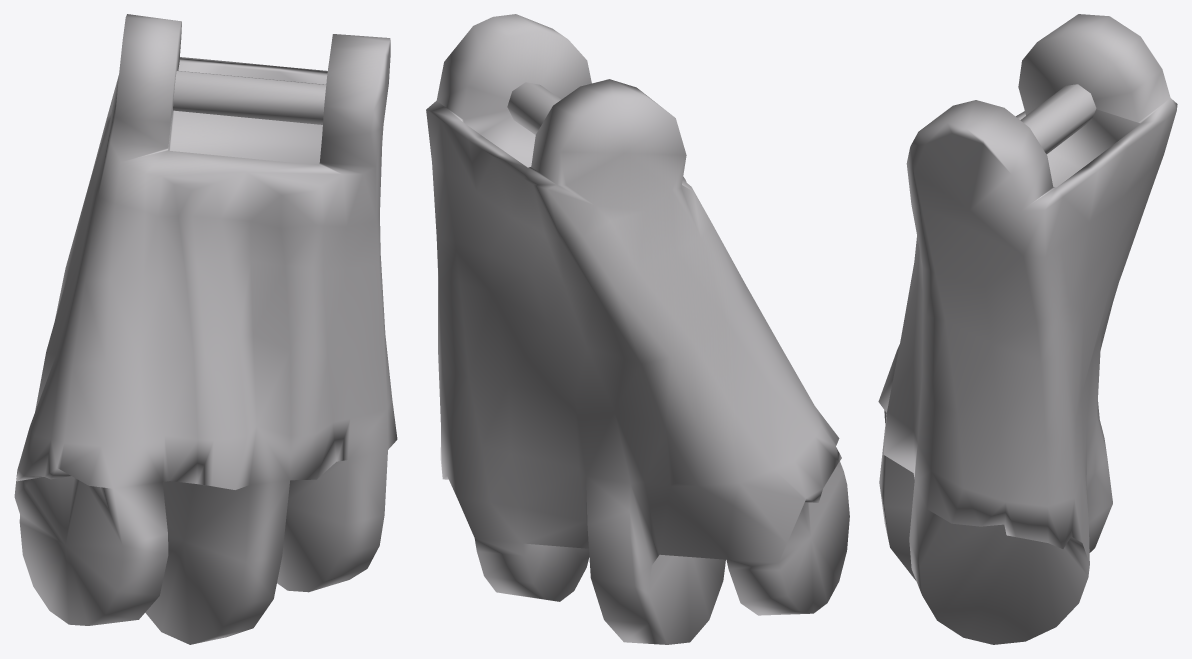
The model's file is Left_Thumb_MtCar.dae.
3 renders of one model, left to right at view 1: azimuth 30°, elevation 25°; view 2: azimuth 150°, elevation 25°; view 3: azimuth 270°, elevation 25°, orthographic.
Visible parts, largest first — view 1: Mesh; view 2: Mesh; view 3: Mesh.
Boxes of the visible parts, left/top/right/bottom form: Mesh: left=14, top=14, right=397, bottom=644; Mesh: left=426, top=14, right=849, bottom=644; Mesh: left=878, top=14, right=1177, bottom=644.
Bounding box in the file's own units: 0.0305 × 0.0448 × 0.021.
Materials: 1 (1 with a texture image).
